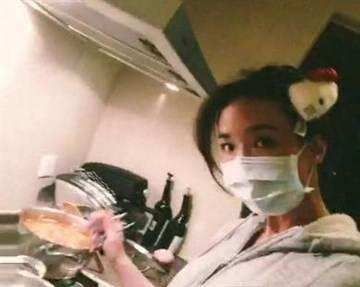OK: (216, 119, 310, 213)
